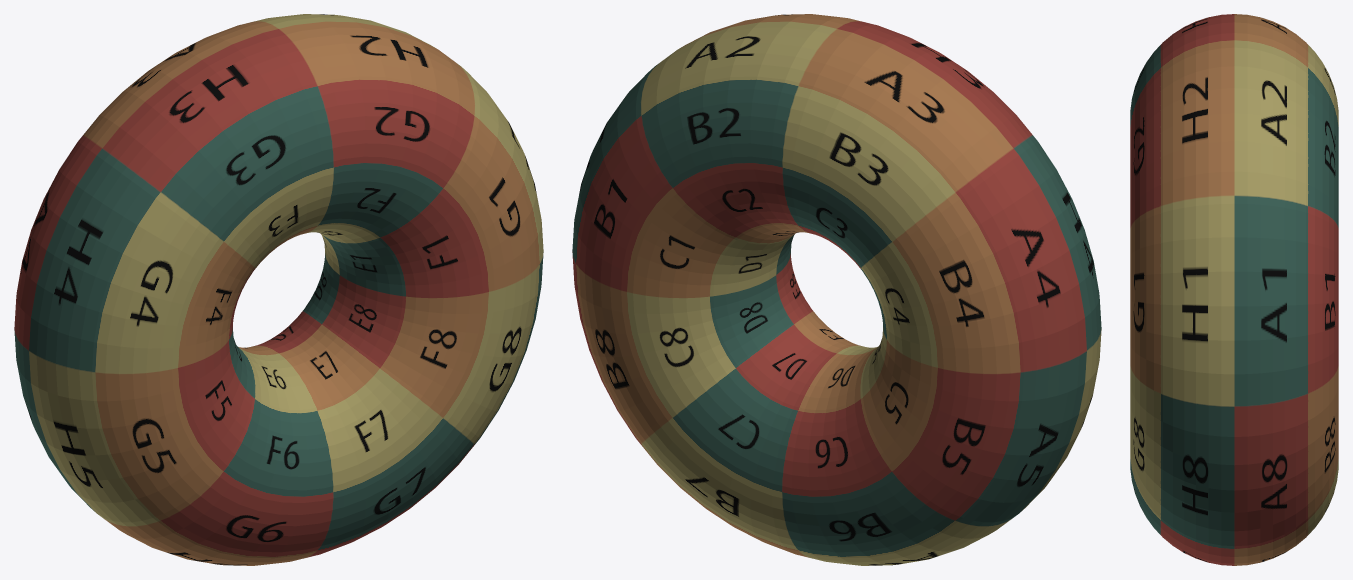
Rendered from texture_torus_R7_r26.glb.
3 views of the same model, side by side, from view 1: azimuth 30°, elevation 25°; view 2: azimuth 150°, elevation 25°; view 3: azimuth 270°, elevation 25° (orthographic). The views are drawn at different scales.
Parts seen in each view (by area): view 1: world; view 2: world; view 3: world.
Part boxes in pixels (bbox=[...]): world: bbox=[14, 14, 543, 565]; world: bbox=[572, 14, 1101, 565]; world: bbox=[1130, 14, 1338, 565].
Size of the model in its own units: 23.6 by 23.55 by 8.92.
1 material, 1 textured.
